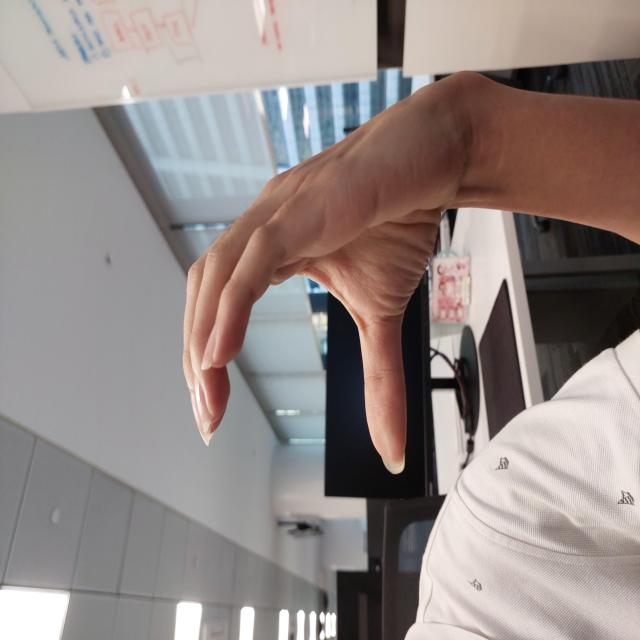C: (164, 179, 566, 469)
